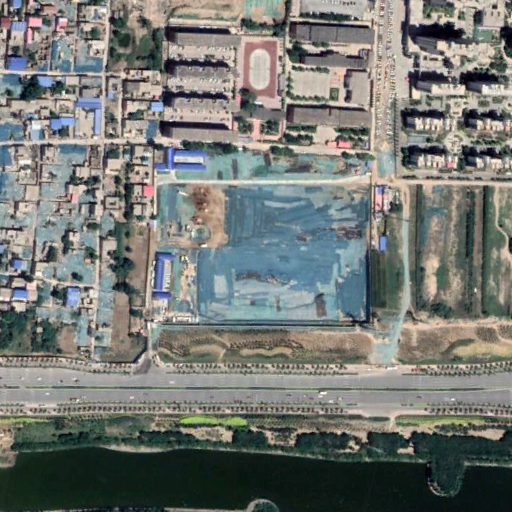cw: (153, 144, 370, 323), (2, 41, 121, 356)
